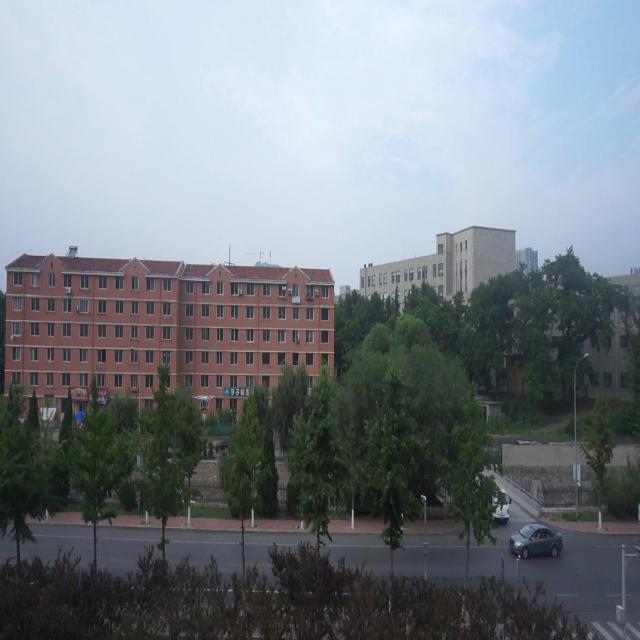drone: (195, 392, 215, 412)
